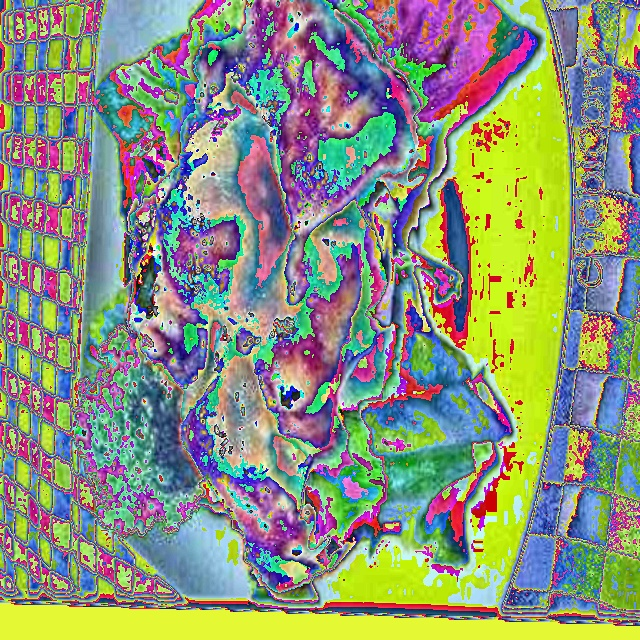background: (70, 0, 527, 604)
